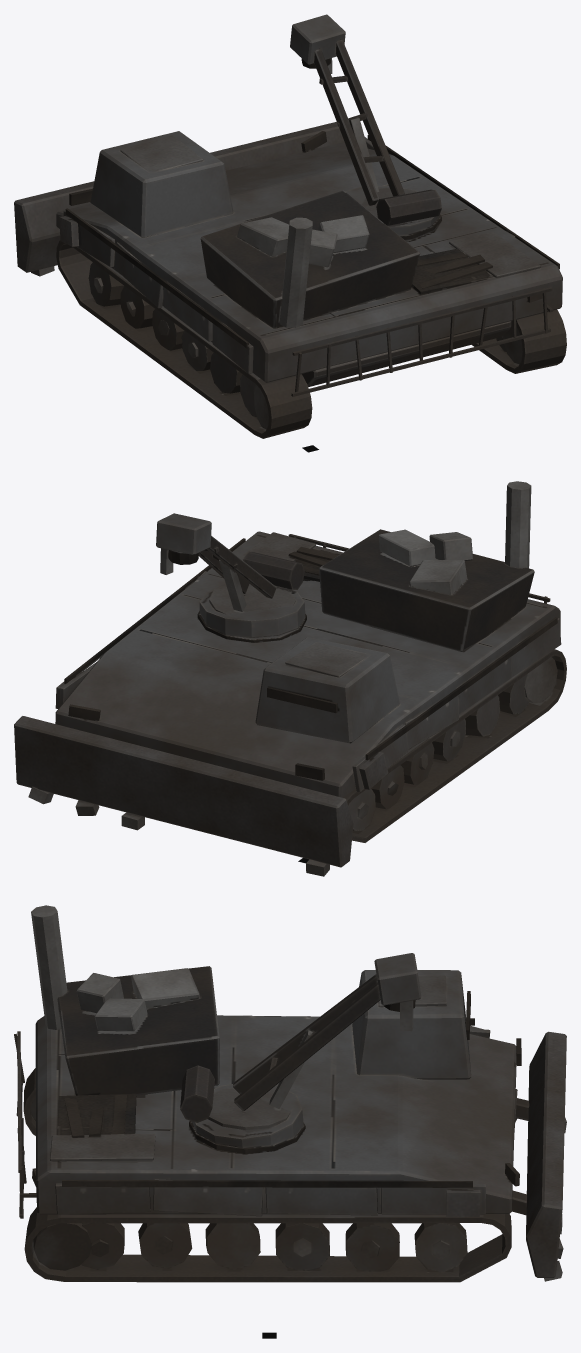
The model's file is chs_scrapper_wreck.fbx.
3 views of the same model, one above another, from view 1: azimuth 30°, elevation 25°; view 2: azimuth 150°, elevation 25°; view 3: azimuth 270°, elevation 25° (orthographic). The views are drawn at different scales.
Visible parts, largest first — view 1: base_bar, trackL_bar, nano_bar, trackR_bar; view 2: base_bar, trackL_bar, nano_bar; view 3: base_bar, trackR_bar, nano_bar, trackL_bar.
Part boxes in pixels (x1,y1,x2,y2): base_bar: [14, 122, 562, 396]; trackL_bar: [56, 240, 312, 438]; nano_bar: [290, 14, 441, 241]; trackR_bar: [472, 309, 566, 373]; base_bar: [14, 481, 561, 876]; trackL_bar: [343, 649, 566, 842]; nano_bar: [156, 513, 306, 642]; base_bar: [14, 905, 566, 1281]; trackR_bar: [24, 1207, 511, 1282]; nano_bar: [180, 953, 421, 1153]; trackL_bar: [23, 1068, 517, 1135].
Size of the model in its own units: 584 by 627 by 769.
2 materials, 2 textured.
